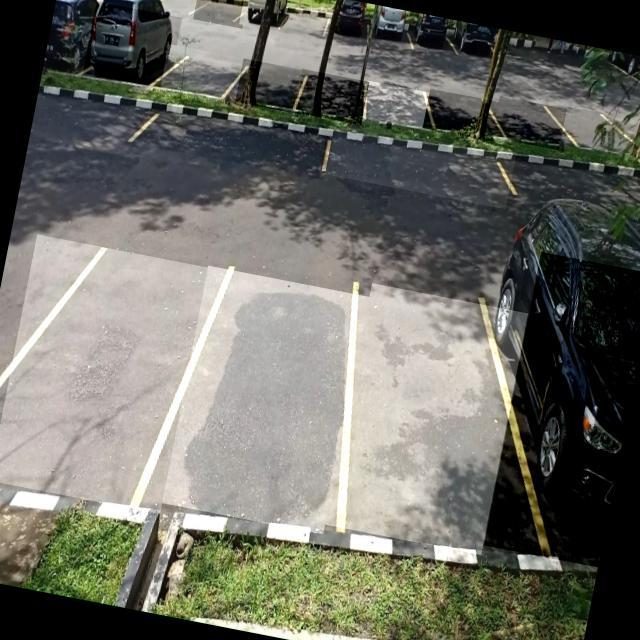empty: (0, 234, 208, 514), (162, 266, 370, 535), (325, 283, 528, 555), (130, 91, 334, 180), (322, 120, 516, 210), (160, 44, 244, 102), (294, 69, 369, 125), (422, 89, 500, 142), (492, 96, 567, 151), (361, 80, 438, 132), (235, 59, 306, 114), (279, 0, 332, 41), (193, 0, 249, 29)
occupied: (484, 251, 640, 567), (83, 1, 182, 90), (324, 0, 375, 46), (239, 0, 292, 33)
